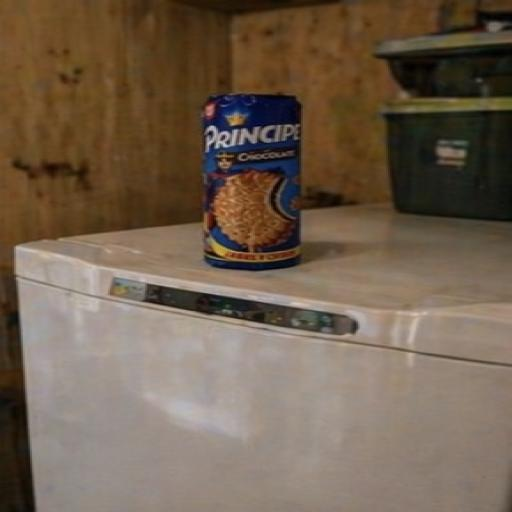prince: (83, 9, 374, 305)
